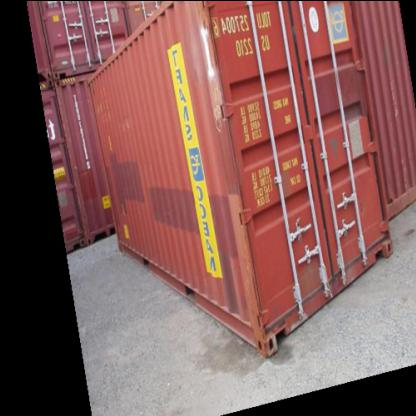Damage: (226, 217, 266, 346), (188, 8, 223, 134), (300, 249, 360, 318)
